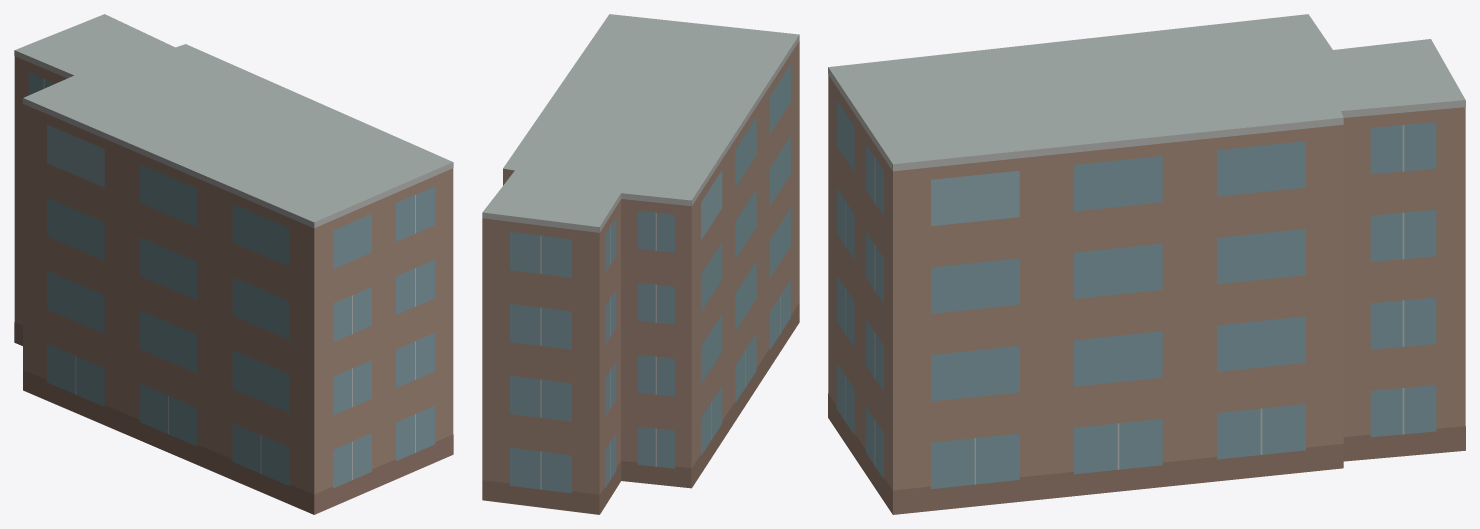
File: survey-upis-32712860.glb
The picture shows the model from 3 angles, left to right: view 1: azimuth 30°, elevation 25°; view 2: azimuth 150°, elevation 25°; view 3: azimuth 270°, elevation 25°; orthographic projection. The views are drawn at different scales.
Parts seen in each view (by area): view 1: survey-upis-32712860.tmp; view 2: survey-upis-32712860.tmp; view 3: survey-upis-32712860.tmp.
Part boxes in pixels (<box>): survey-upis-32712860.tmp: <box>14,14,453,514</box>; survey-upis-32712860.tmp: <box>482,14,799,514</box>; survey-upis-32712860.tmp: <box>828,14,1465,514</box>.
Size of the model in its own units: 11.23 by 12.2 by 20.12.
